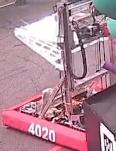red_number: (27, 120, 58, 144)
